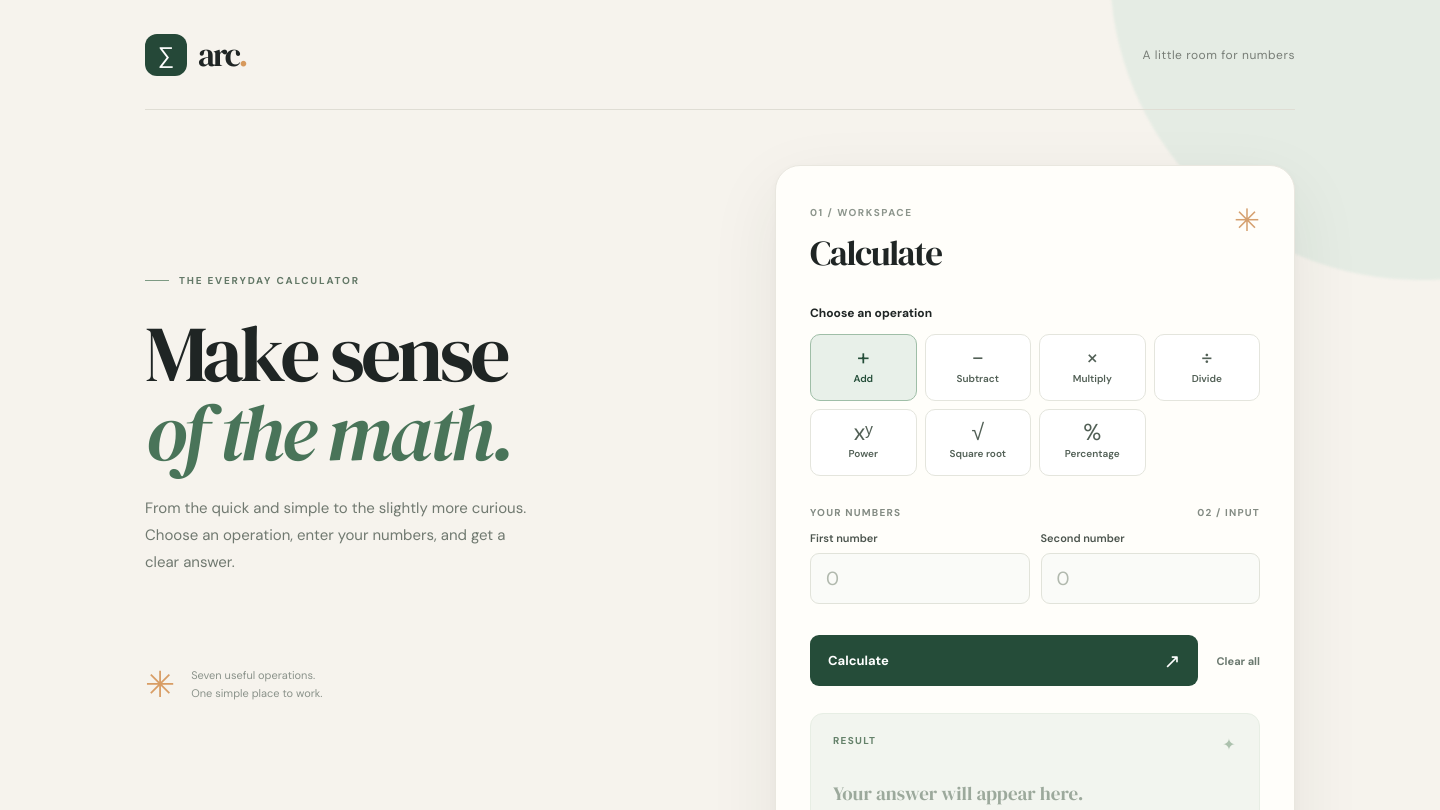
Test case: calculator UI › validates required inputs before making a request
Click the button "Calculate ↗" at [858, 660], box [810,635,1198,686]
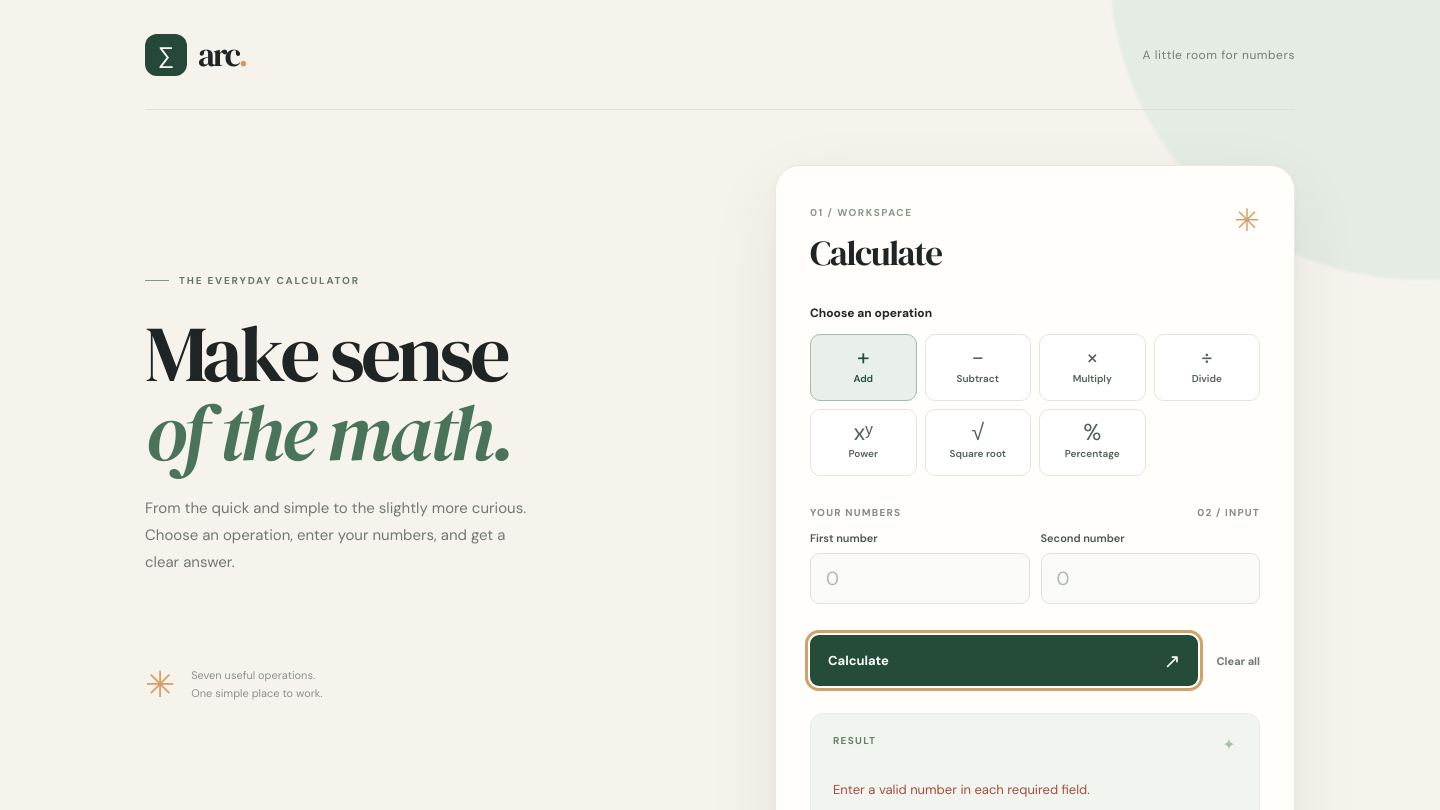
Result: the message shows "Enter a valid number" at [833,781,1090,798]
